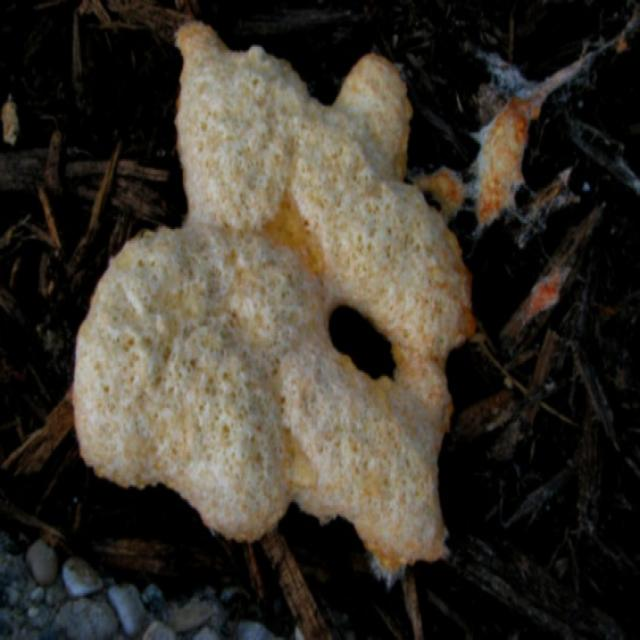Dog_vomit_slime_mold: (66, 17, 554, 586)
